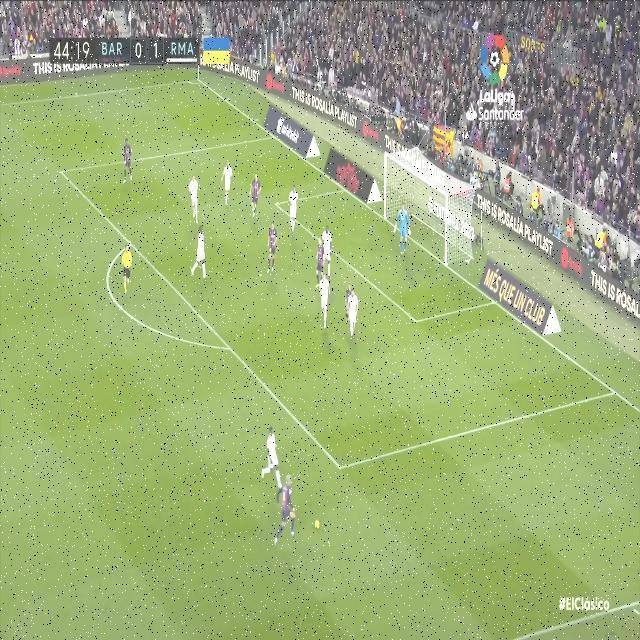ball: (313, 502, 324, 560)
goalkeeper: (387, 190, 437, 283)
player: (183, 208, 224, 303), (307, 255, 339, 350), (270, 472, 304, 555), (345, 263, 369, 354), (217, 138, 241, 227), (314, 214, 340, 293), (115, 127, 141, 204), (284, 178, 306, 269), (183, 148, 204, 233), (258, 417, 282, 488), (262, 216, 282, 301)
referee: (114, 208, 145, 332)
